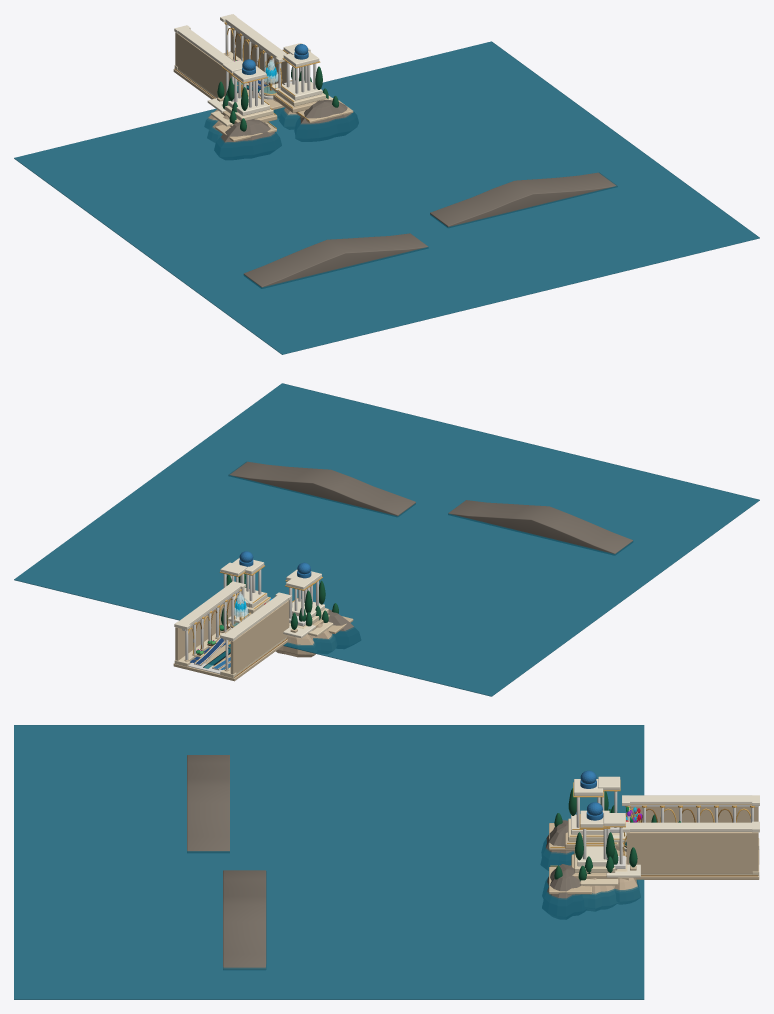
The model's file is vault-garden-gallery.glb.
The picture shows the model from 3 angles, top to bottom: view 1: azimuth 30°, elevation 25°; view 2: azimuth 150°, elevation 25°; view 3: azimuth 270°, elevation 25°; orthographic projection. The views are drawn at different scales.
Parts seen in each view (by area): view 1: vault-garden-coastal-horizon-real-animated-sea-water-mesh, vault-garden-sunset-cliff-palace-right-distant-atmospheric-r, vault-garden-sunset-cliff-palace-left-distant-atmospheric-ri, vault-garden-royal-terrace-right-tall-outer-palace-spine, vault-garden-royal-coast-right-terrace-cliff-mass-03, vault-garden-royal-coast-left-terrace-cliff-mass-03, vault-garden-royal-terrace-left-tall-outer-palace-spine, vault-garden-royal-terrace-left-continuous-coffered-cloister, vault-garden-royal-terrace-right-continuous-coffered-cloiste; view 2: vault-garden-coastal-horizon-real-animated-sea-water-mesh, vault-garden-sunset-cliff-palace-right-distant-atmospheric-r, vault-garden-sunset-cliff-palace-left-distant-atmospheric-ri, vault-garden-royal-terrace-right-tall-outer-palace-spine, vault-garden-royal-terrace-left-tall-outer-palace-spine, vault-garden-royal-terrace-left-continuous-coffered-cloister, vault-garden-royal-terrace-right-continuous-coffered-cloiste, vault-garden-orchard-deep-honey-limestone-foundation, vault-garden-royal-coast-right-terrace-cliff-mass-01; view 3: vault-garden-coastal-horizon-real-animated-sea-water-mesh, vault-garden-royal-terrace-left-tall-outer-palace-spine, vault-garden-sunset-cliff-palace-left-distant-atmospheric-ri, vault-garden-sunset-cliff-palace-right-distant-atmospheric-r, vault-garden-royal-terrace-right-tall-outer-palace-spine, vault-garden-royal-terrace-right-continuous-coffered-cloiste, vault-garden-royal-terrace-left-continuous-coffered-cloister, vault-garden-royal-coast-left-terrace-cliff-mass-03, vault-garden-orchard-deep-honey-limestone-foundation, vault-garden-royal-coast-right-terrace-cliff-mass-03.
Part boxes in pixels (<box>): vault-garden-coastal-horizon-real-animated-sea-water-mesh: <box>14,41,759,354</box>; vault-garden-sunset-cliff-palace-right-distant-atmospheric-r: <box>243,233,428,287</box>; vault-garden-sunset-cliff-palace-left-distant-atmospheric-ri: <box>430,172,617,227</box>; vault-garden-royal-terrace-right-tall-outer-palace-spine: <box>175,32,231,97</box>; vault-garden-royal-coast-right-terrace-cliff-mass-03: <box>220,119,275,143</box>; vault-garden-royal-coast-left-terrace-cliff-mass-03: <box>299,100,351,124</box>; vault-garden-royal-terrace-left-tall-outer-palace-spine: <box>230,27,286,84</box>; vault-garden-royal-terrace-left-continuous-coffered-cloister: <box>223,14,286,57</box>; vault-garden-royal-terrace-right-continuous-coffered-cloiste: <box>176,26,233,65</box>; vault-garden-coastal-horizon-real-animated-sea-water-mesh: <box>14,383,759,696</box>; vault-garden-sunset-cliff-palace-right-distant-atmospheric-r: <box>448,500,632,554</box>; vault-garden-sunset-cliff-palace-left-distant-atmospheric-ri: <box>228,461,415,516</box>; vault-garden-royal-terrace-right-tall-outer-palace-spine: <box>230,600,289,674</box>; vault-garden-royal-terrace-left-tall-outer-palace-spine: <box>175,597,231,660</box>; vault-garden-royal-terrace-left-continuous-coffered-cloister: <box>175,582,241,625</box>; vault-garden-royal-terrace-right-continuous-coffered-cloiste: <box>226,594,289,637</box>; vault-garden-orchard-deep-honey-limestone-foundation: <box>173,639,287,681</box>; vault-garden-royal-coast-right-terrace-cliff-mass-01: <box>275,634,315,657</box>; vault-garden-coastal-horizon-real-animated-sea-water-mesh: <box>14,725,644,999</box>; vault-garden-royal-terrace-left-tall-outer-palace-spine: <box>626,832,758,873</box>; vault-garden-sunset-cliff-palace-left-distant-atmospheric-ri: <box>223,870,266,969</box>; vault-garden-sunset-cliff-palace-right-distant-atmospheric-r: <box>187,755,229,852</box>; vault-garden-royal-terrace-right-tall-outer-palace-spine: <box>630,806,758,822</box>; vault-garden-royal-terrace-right-continuous-coffered-cloiste: <box>626,795,759,804</box>; vault-garden-royal-terrace-left-continuous-coffered-cloister: <box>626,822,759,831</box>; vault-garden-royal-coast-left-terrace-cliff-mass-03: <box>546,864,580,899</box>; vault-garden-orchard-deep-honey-limestone-foundation: <box>616,849,759,879</box>; vault-garden-royal-coast-right-terrace-cliff-mass-03: <box>545,820,573,854</box>.
Bounding box in the file's own units: 72 × 11.81 × 82.83.
